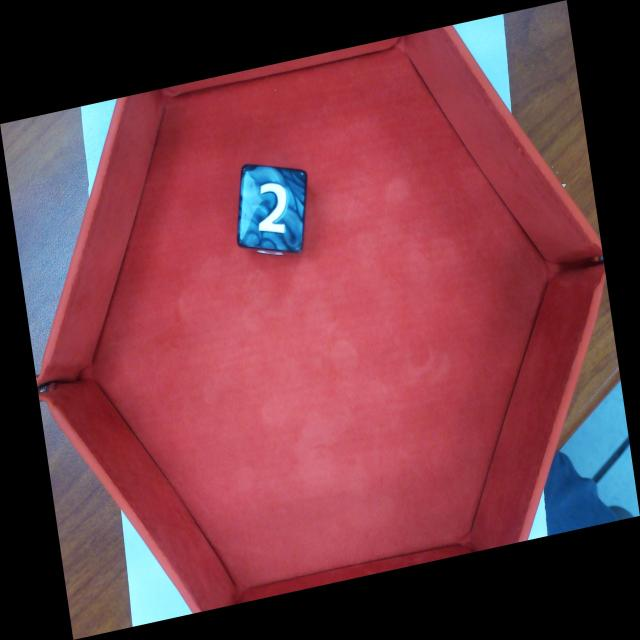dice: (240, 161, 307, 247)
